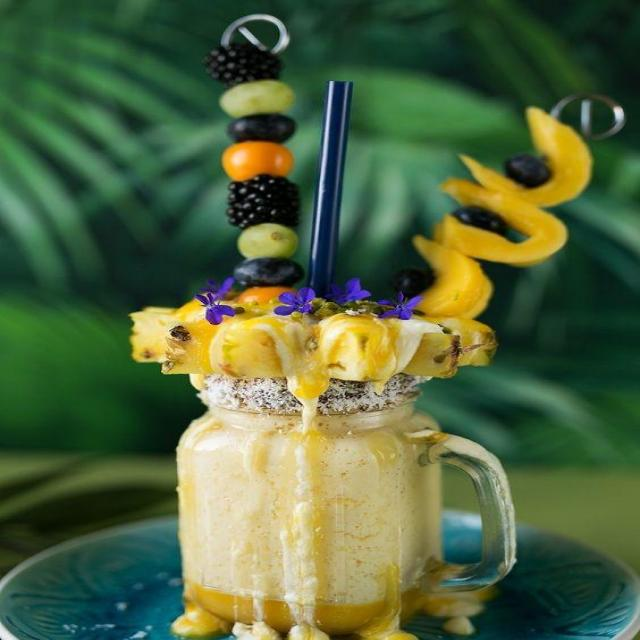glass-mug: (169, 386, 521, 640)
